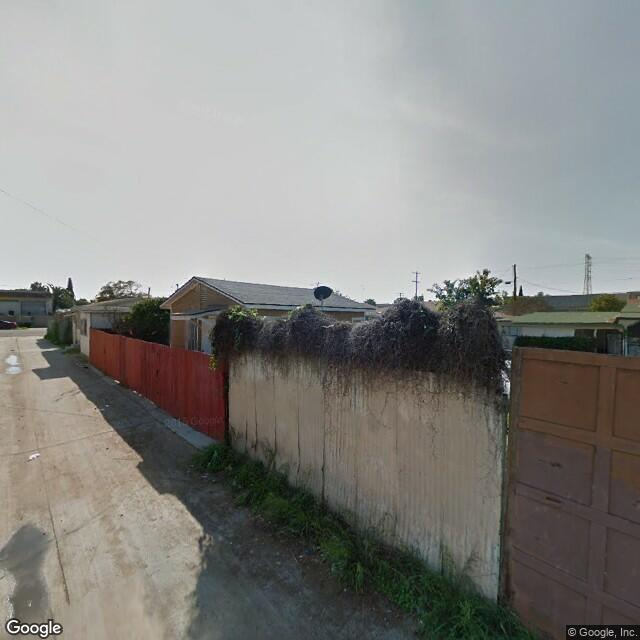litter: (123, 386, 150, 398), (112, 378, 129, 389), (22, 448, 42, 456)
